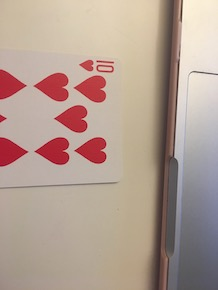TenOfHearts: (1, 46, 122, 192)
